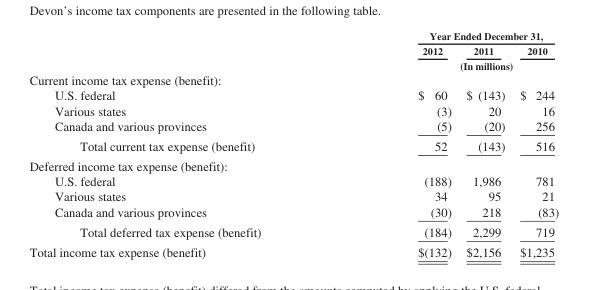table: (28, 29, 558, 258)
table column: (28, 29, 338, 258), (338, 29, 458, 258), (458, 29, 511, 258), (511, 29, 558, 258)
table column header: (28, 29, 558, 72)
table projected row header: (28, 155, 558, 173), (28, 72, 558, 87)
table row: (28, 135, 558, 155), (28, 221, 558, 241), (28, 117, 558, 135), (28, 155, 558, 173), (28, 203, 558, 221), (28, 241, 558, 258), (28, 42, 558, 57), (28, 57, 558, 72), (28, 72, 558, 87), (28, 87, 558, 102), (28, 102, 558, 117), (28, 173, 558, 188), (28, 188, 558, 203), (28, 29, 558, 42)
table spanning cell: (338, 57, 558, 72), (338, 29, 558, 42)
